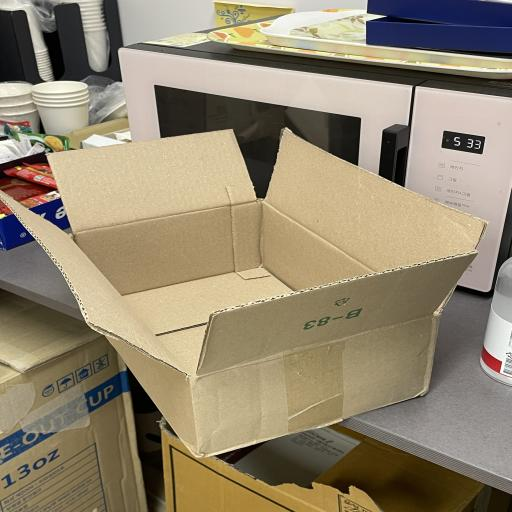box: (1, 127, 488, 459)
opened: (1, 127, 488, 377)
